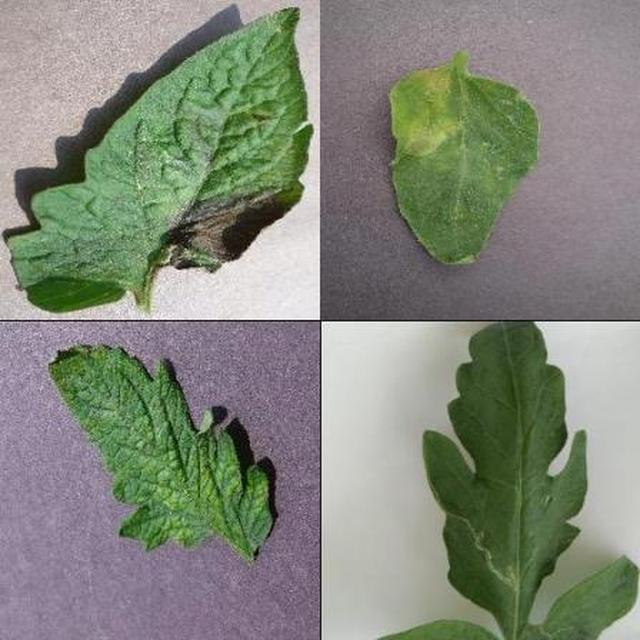Late Blight Leaf: (227, 227, 640, 640)
